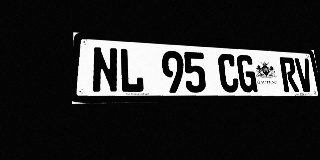5: (183, 51, 207, 93)
9: (161, 50, 185, 93)
C: (217, 53, 240, 92)
G: (236, 54, 258, 92)
L: (119, 48, 144, 93)
N: (92, 46, 119, 93)
R: (279, 57, 299, 92)
V: (294, 58, 314, 92)
